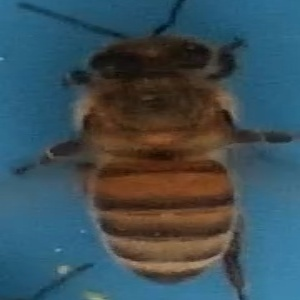bee: (18, 1, 292, 295)
